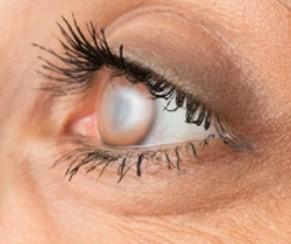eye: (94, 82, 154, 144)
